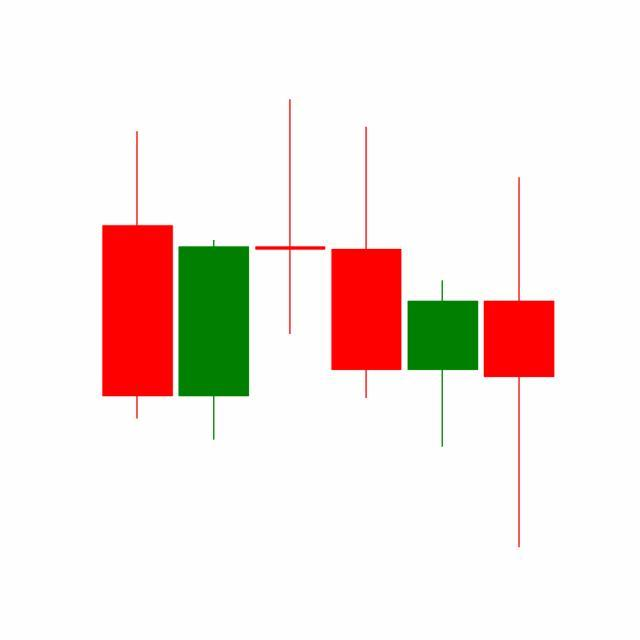Hammer: (404, 280, 482, 450)
